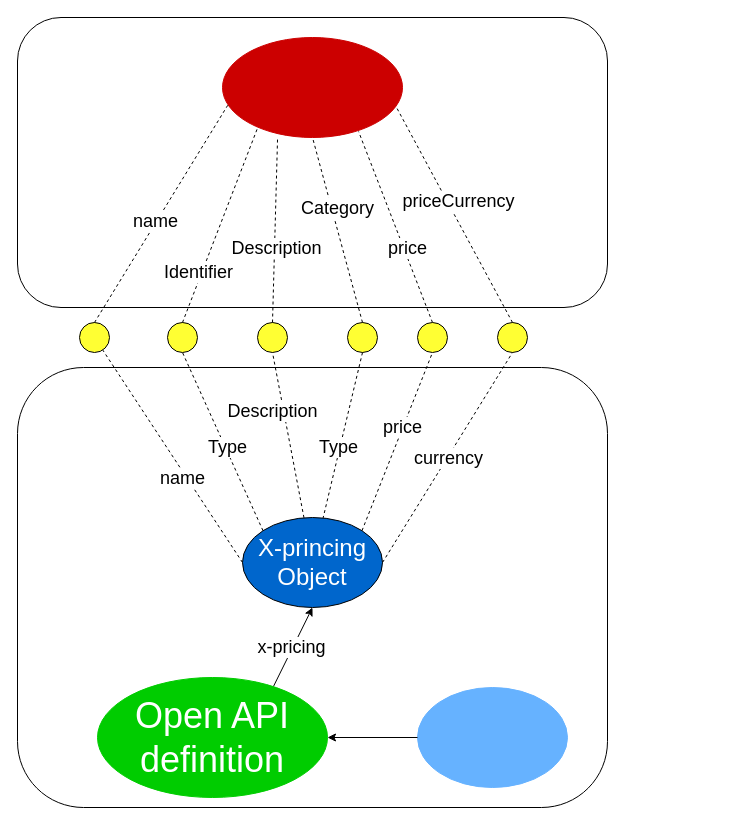
The diagram is 745 pixels wide and 825 high, and some of its shapes have lost their labels. Here are the shapes that lost their labels. From the top down, the box of each, then its label:
(222, 36, 402, 138): Offer
(416, 686, 568, 788): API
